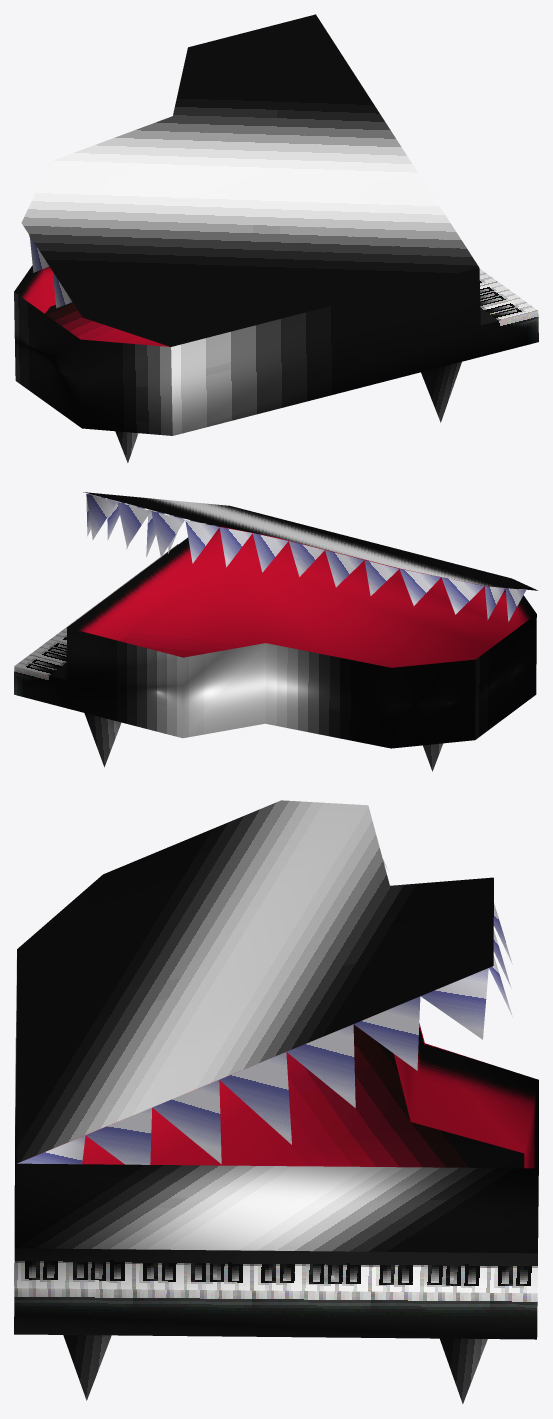
Rendered from spooky_piano.glb.
3 views of the same model, one above another, from view 1: azimuth 30°, elevation 25°; view 2: azimuth 150°, elevation 25°; view 3: azimuth 270°, elevation 25° (orthographic). The views are drawn at different scales.
Visible parts, largest first — view 1: spoopy_piano; view 2: spoopy_piano; view 3: spoopy_piano.
Part boxes in pixels (x1,y1,x2,y2): spoopy_piano: (14,14,538,462); spoopy_piano: (14,492,538,771); spoopy_piano: (14,800,538,1403).
Bounding box in the file's own units: 6.27 × 4.32 × 4.56.
6 materials, 6 textured.
